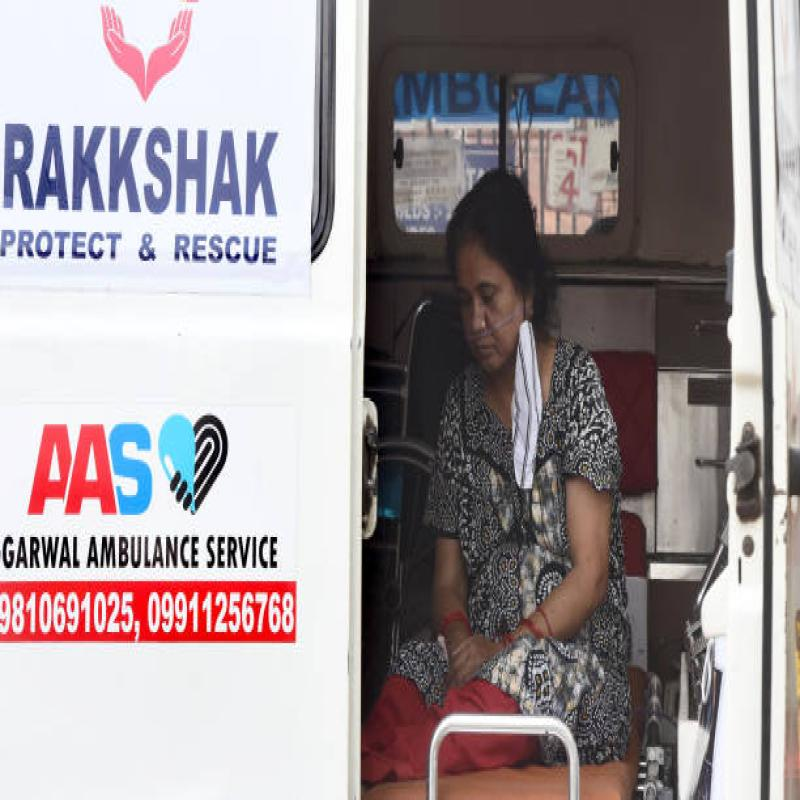ambulance: (0, 0, 382, 800)
